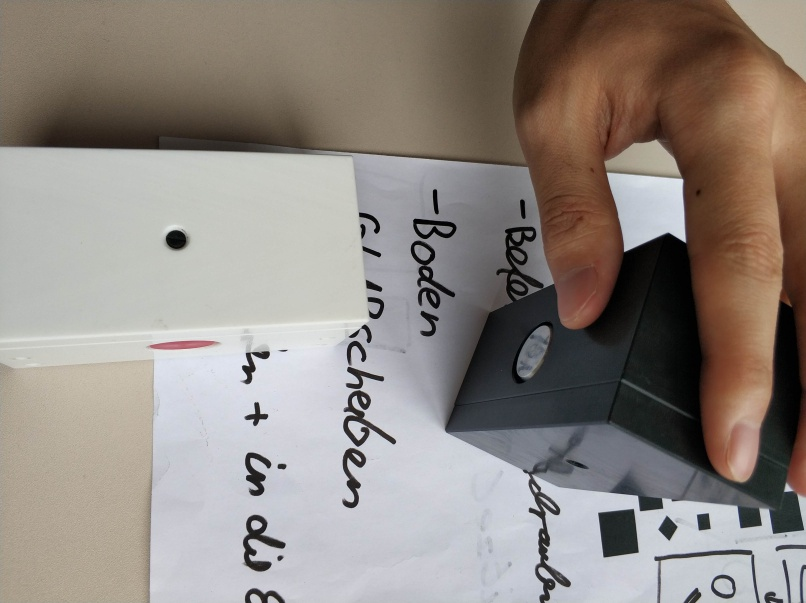black+black+silver: (441, 231, 789, 512)
white+white+red: (1, 140, 375, 373)
